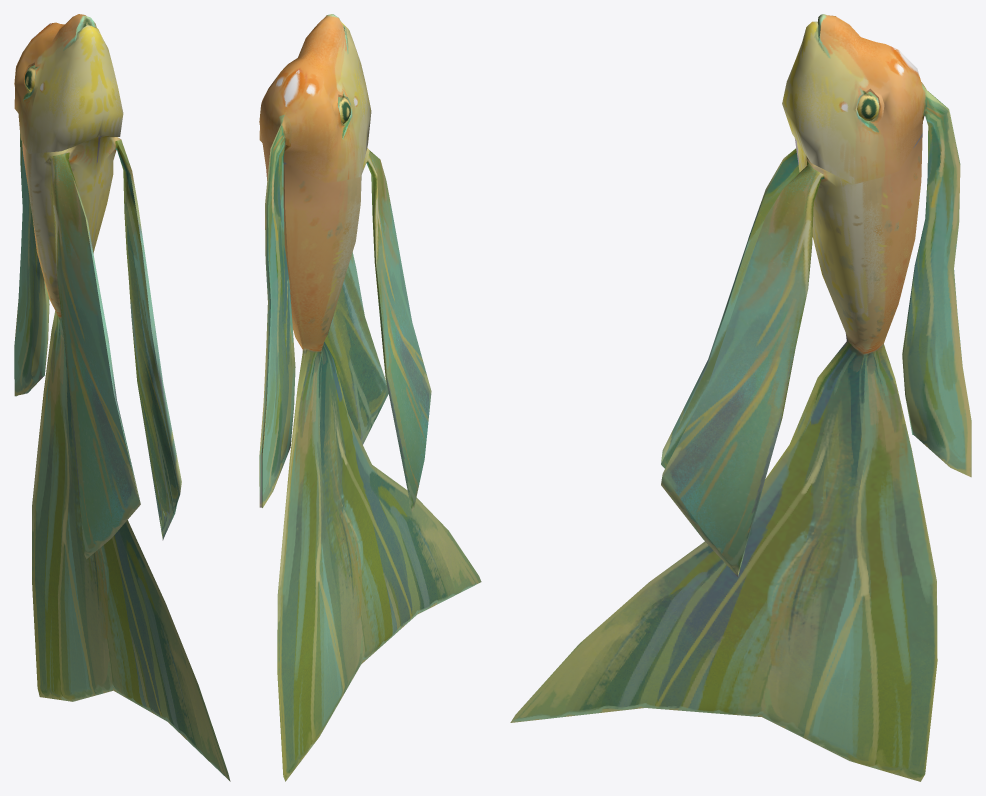
The model's file is sunray-dancer.fbx.
3 views of the same model, side by side, from view 1: azimuth 30°, elevation 25°; view 2: azimuth 150°, elevation 25°; view 3: azimuth 270°, elevation 25° (orthographic). The views are drawn at different scales.
Parts seen in each view (by area): view 1: Cube; view 2: Cube; view 3: Cube.
Part boxes in pixels (box(x1,y1,x2,y2)): Cube: box(14, 14, 230, 781); Cube: box(259, 14, 481, 781); Cube: box(510, 14, 971, 781).
Size of the model in its own units: 173 by 1417 by 772.
2 materials, 2 textured.
